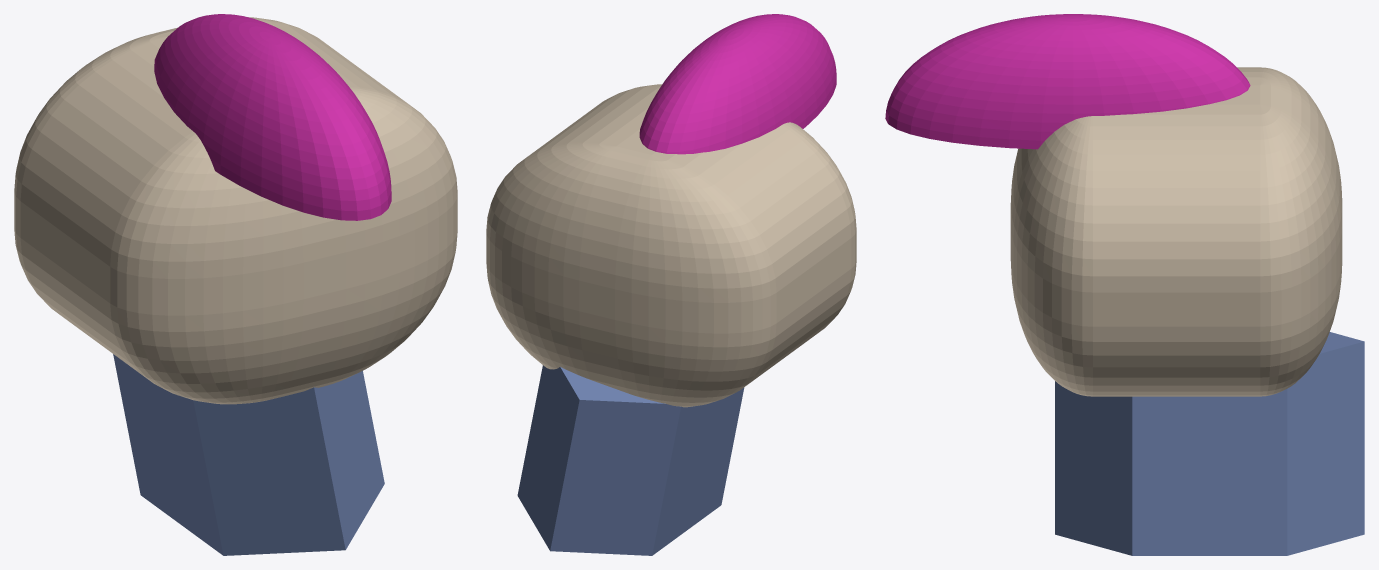
The model's file is asset.glb.
3 views of the same model, side by side, from view 1: azimuth 30°, elevation 25°; view 2: azimuth 150°, elevation 25°; view 3: azimuth 270°, elevation 25° (orthographic). The views are drawn at different scales.
Visible parts, largest first — view 1: Mesh_Mesh_head_geo.001_lambert2SG.001; view 2: Mesh_Mesh_head_geo.001_lambert2SG.001; view 3: Mesh_Mesh_head_geo.001_lambert2SG.001.
Part boxes in pixels (x1,y1,x2,y2): Mesh_Mesh_head_geo.001_lambert2SG.001: (14, 14, 457, 555); Mesh_Mesh_head_geo.001_lambert2SG.001: (486, 14, 856, 555); Mesh_Mesh_head_geo.001_lambert2SG.001: (885, 14, 1364, 555).
Size of the model in its own units: 49.85 by 75.04 by 65.
